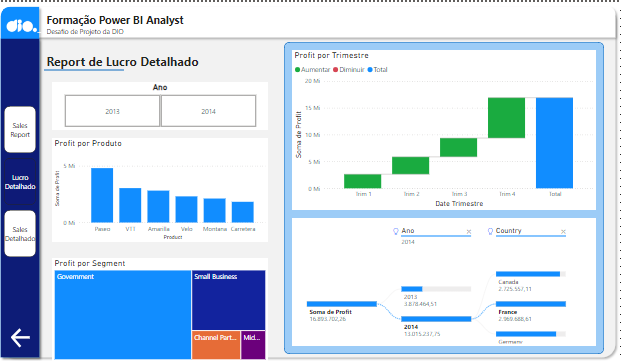

What the dashboard file says about the page in this screenshot:
{"tool":"powerbi","page":{"name":"Lucro Detalhado","canvas":[1280,720],"ordinal":1},"visuals":[{"type":"group","id":"g1","title":"Grupo 1","box":[0,0,1248,720],"z":0},{"type":"shape","title":"Background","box":[0,0,1248,720],"z":500,"group":"g1"},{"type":"shape","box":[576,80,640,624],"z":1000},{"type":"actionButton","title":"Botão - Seta","box":[25,640,48,64],"z":2000},{"type":"textbox","box":[96,96,352,64],"z":3000},{"type":"slicer","title":"Ano","fields":{"Values":["financials.Date.Variation.Hierarquia de datas.Ano"]},"box":[112,160,432,96],"z":4000},{"type":"decompositionTreeVisual","fields":{"Analyze":["Sum(financials.Profit)"],"ExplainBy":["financials.Date.Variation.Hierarquia de datas.Ano","financials.Country"]},"box":[592,432,608,256],"z":5000},{"type":"waterfallChart","title":"Profit por Trimestre","fields":{"Category":["financials.Date.Variation.Hierarquia de datas.Trimestre"],"Y":["Sum(financials.Profit)"]},"box":[592,96,608,320],"z":6000},{"type":"columnChart","title":"Profit por Produto","fields":{"Category":["financials.Product"],"Y":["Sum(financials.Profit)"]},"box":[112,272,432,208],"z":7000},{"type":"shape","box":[32,0,1216,80],"z":7250,"group":"g1"},{"type":"shape","box":[0,0,96,720],"z":7500,"group":"g1"},{"type":"shape","box":[0,64,96,656],"z":8000,"group":"g1"},{"type":"treemap","title":"Profit por Segment","fields":{"Values":["Sum(financials.Profit)"],"Group":["financials.Segment"]},"box":[112,512,432,208],"z":8000},{"type":"pageNavigator","box":[16,208,64,304],"z":9000},{"type":"shape","box":[96,128,160,16],"z":12000,"group":"g1"},{"type":"image","box":[16,16,80,64],"z":13000,"group":"g1"},{"type":"textbox","box":[96,16,448,64],"z":13500,"group":"g1"}]}

Visuals, with their boxes on the page's 1280x720 design canvas (x1, y1, x2, y2). These are canvas units, not pixel positions in the 621x361 screenshot, which may show the page scaled, cropped or inside an application window:
"Grupo 1" group: bbox=[0, 0, 1248, 720]
"Background" shape: bbox=[0, 0, 1248, 720]
shape: bbox=[576, 80, 1216, 704]
"Botão - Seta" actionButton: bbox=[25, 640, 73, 704]
textbox: bbox=[96, 96, 448, 160]
"Ano" slicer: bbox=[112, 160, 544, 256]
decompositionTreeVisual - Sum(financials.Profit) x financials.Date.Variation.Hierarquia de datas.Ano: bbox=[592, 432, 1200, 688]
"Profit por Trimestre" waterfallChart: bbox=[592, 96, 1200, 416]
"Profit por Produto" columnChart: bbox=[112, 272, 544, 480]
shape: bbox=[32, 0, 1248, 80]
shape: bbox=[0, 0, 96, 720]
shape: bbox=[0, 64, 96, 720]
"Profit por Segment" treemap: bbox=[112, 512, 544, 720]
pageNavigator: bbox=[16, 208, 80, 512]
shape: bbox=[96, 128, 256, 144]
image: bbox=[16, 16, 96, 80]
textbox: bbox=[96, 16, 544, 80]
